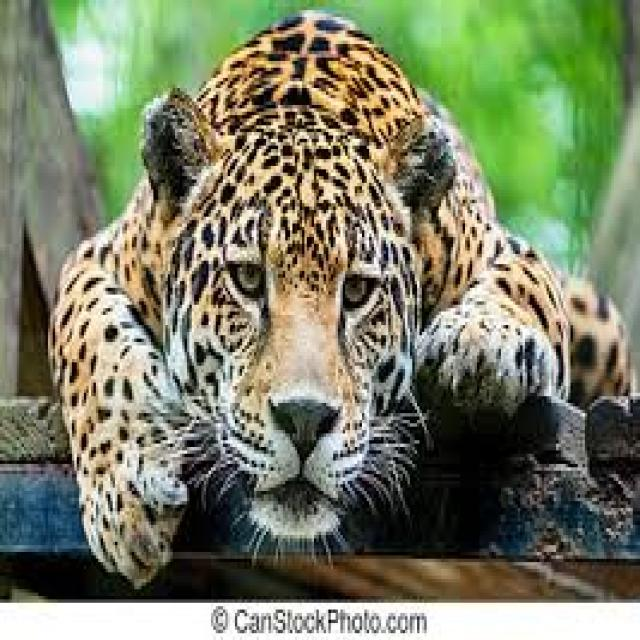Jaguar: (43, 13, 621, 566)
